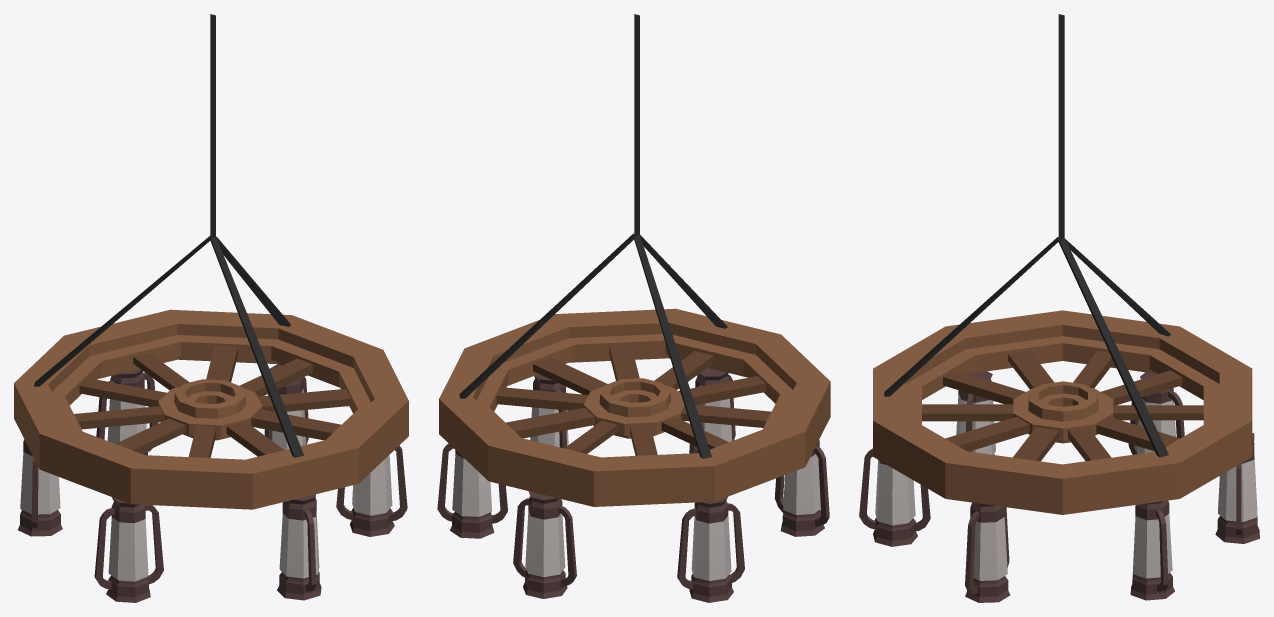
The model's file is chandelier.fbx.
3 views of the same model, side by side, from view 1: azimuth 30°, elevation 25°; view 2: azimuth 150°, elevation 25°; view 3: azimuth 270°, elevation 25° (orthographic).
Visible parts, largest first — view 1: chandelier; view 2: chandelier; view 3: chandelier.
Part boxes in pixels (x1,y1,x2,y2): chandelier: (14, 14, 408, 602); chandelier: (437, 14, 830, 602); chandelier: (859, 14, 1259, 602).
Size of the model in its own units: 267 by 384 by 269.
